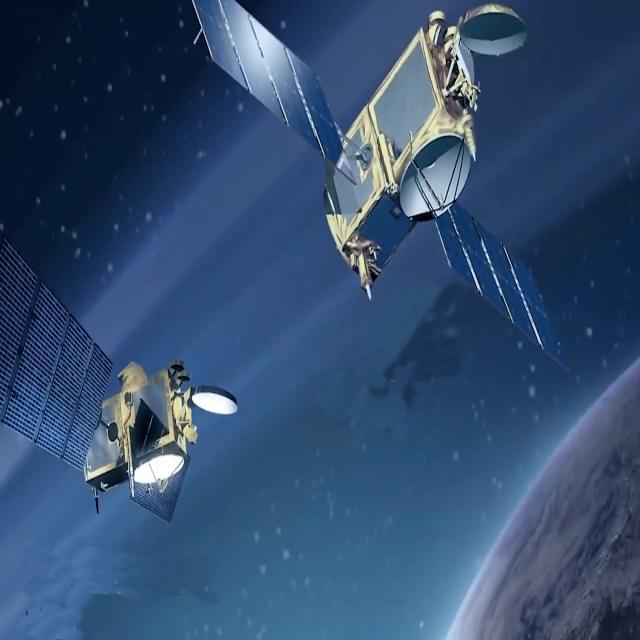sat: (185, 0, 640, 364), (0, 202, 246, 571)
